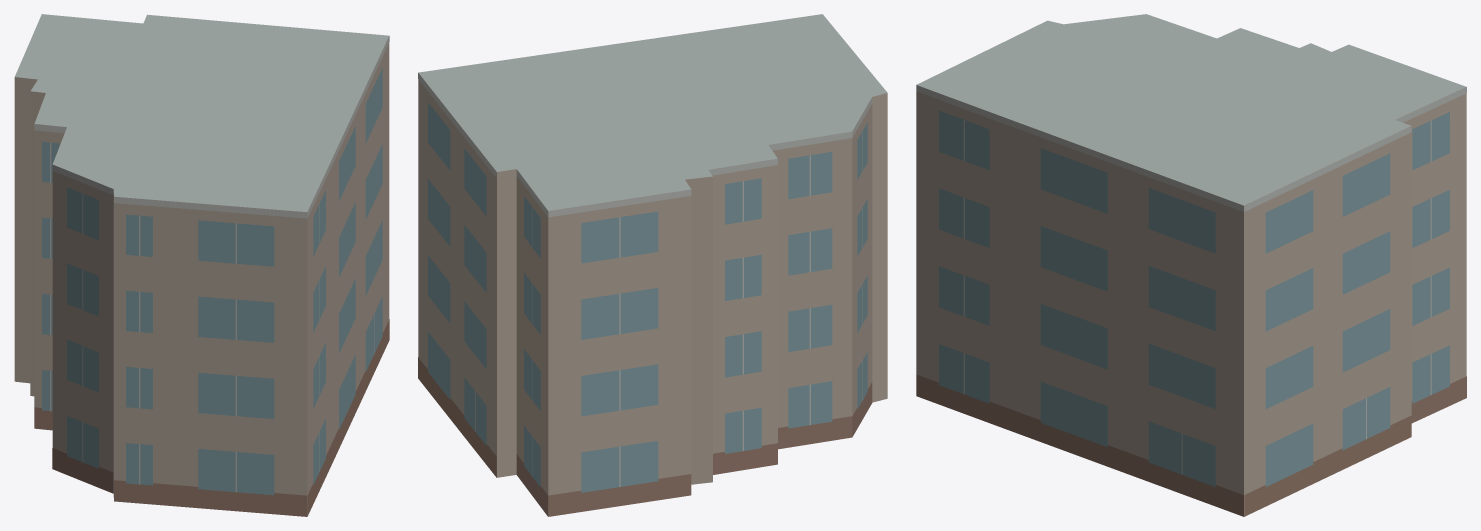
File: survey-upis-32884919.glb
3 views of the same model, side by side, from view 1: azimuth 30°, elevation 25°; view 2: azimuth 150°, elevation 25°; view 3: azimuth 270°, elevation 25° (orthographic). The views are drawn at different scales.
Visible parts, largest first — view 1: survey-upis-32884919.tmp; view 2: survey-upis-32884919.tmp; view 3: survey-upis-32884919.tmp.
Part boxes in pixels (left/top/right/bottom): survey-upis-32884919.tmp: left=14, top=14, right=389, bottom=516; survey-upis-32884919.tmp: left=418, top=14, right=887, bottom=516; survey-upis-32884919.tmp: left=916, top=14, right=1466, bottom=516.
Size of the model in its own units: 15.47 by 11.7 by 18.76.
